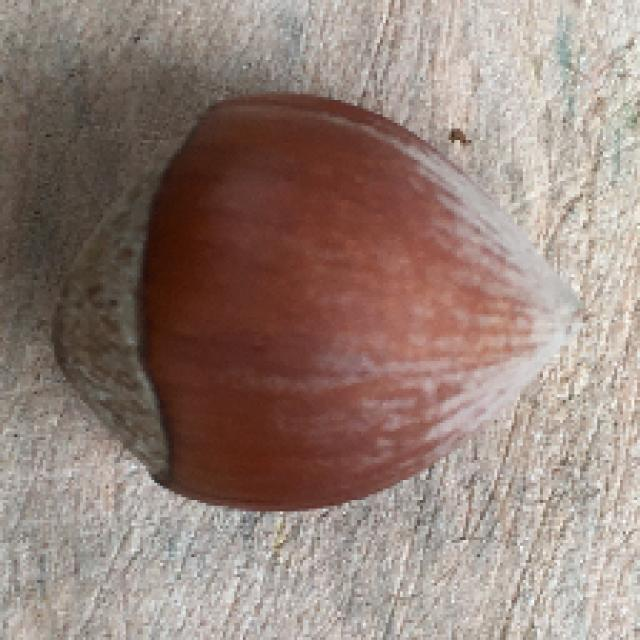qualityHazelnut: (29, 86, 588, 510)
